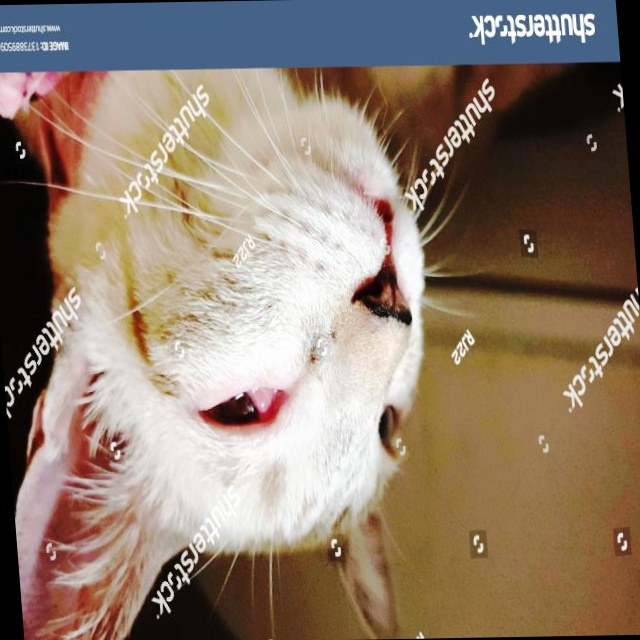eye_infection: (195, 382, 287, 438)
